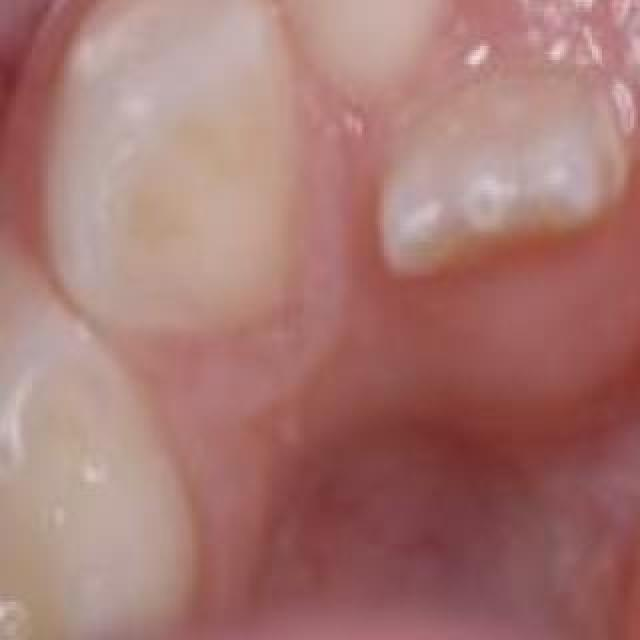maligned: (363, 76, 639, 332), (624, 34, 640, 330)
